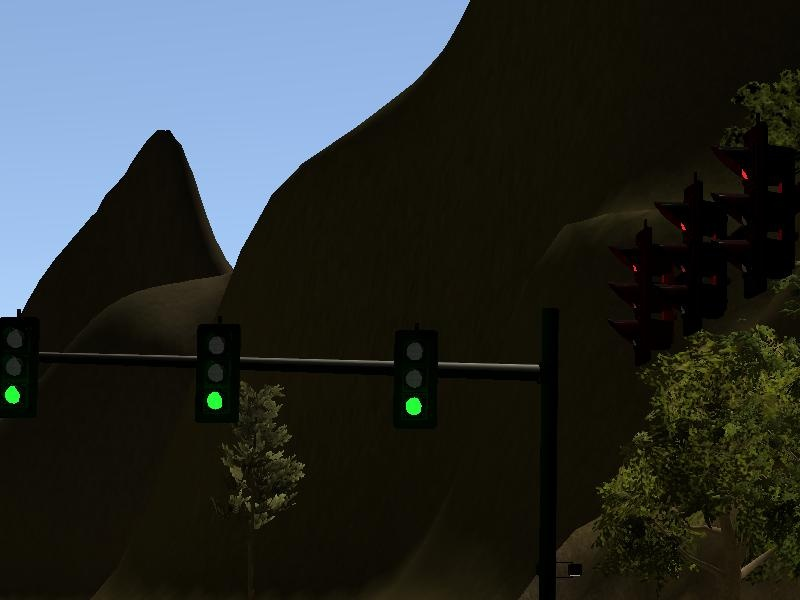GREEN: (194, 323, 238, 422), (392, 333, 435, 426), (1, 316, 36, 414)
